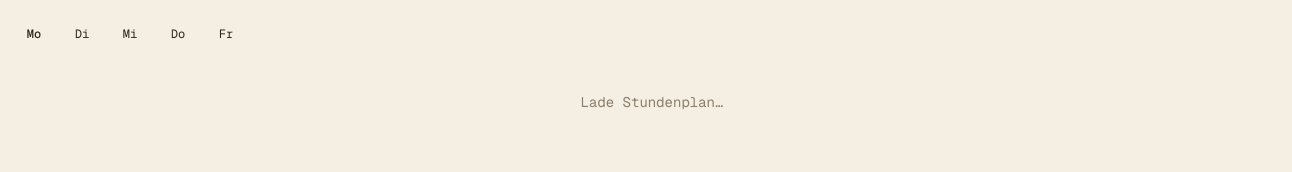
ScheduleWidget › zeigt Uhrzeiten im richtigen Format an
Click the button "Mo" at (34,34), box [12,12,56,56]
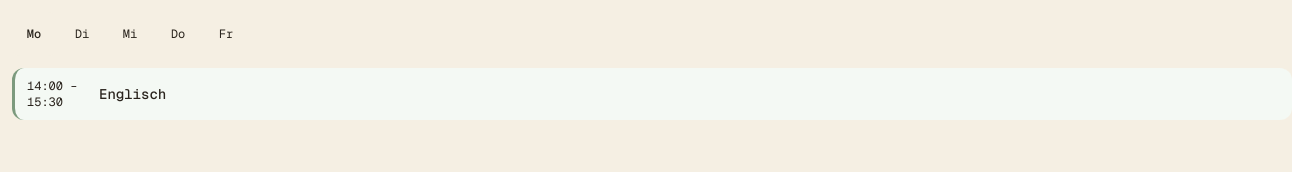
Expected: the text "14:00 – 15:30" is shown, [27,78,77,110]
